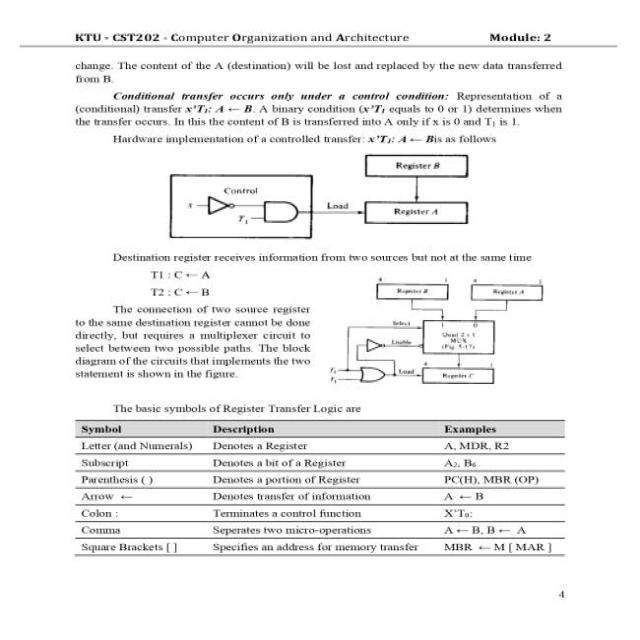Figure Detection - v3 Dataset Version2: (158, 147, 478, 245), (322, 270, 552, 396)
